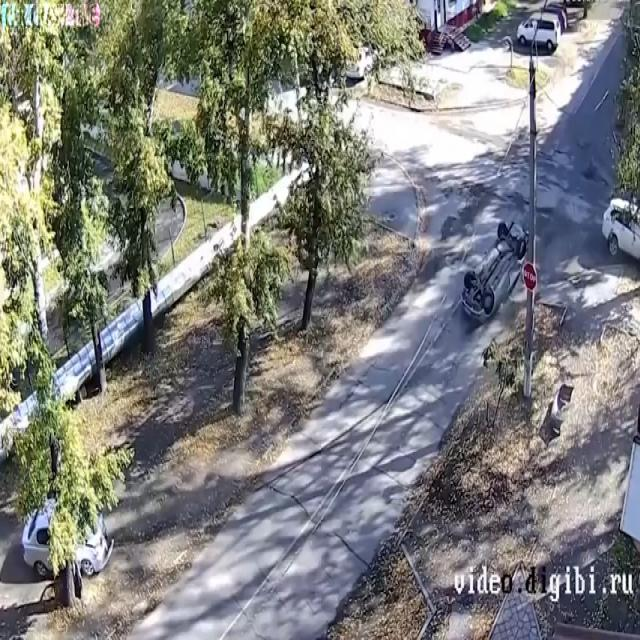accident: (15, 483, 126, 577), (463, 199, 529, 329)
